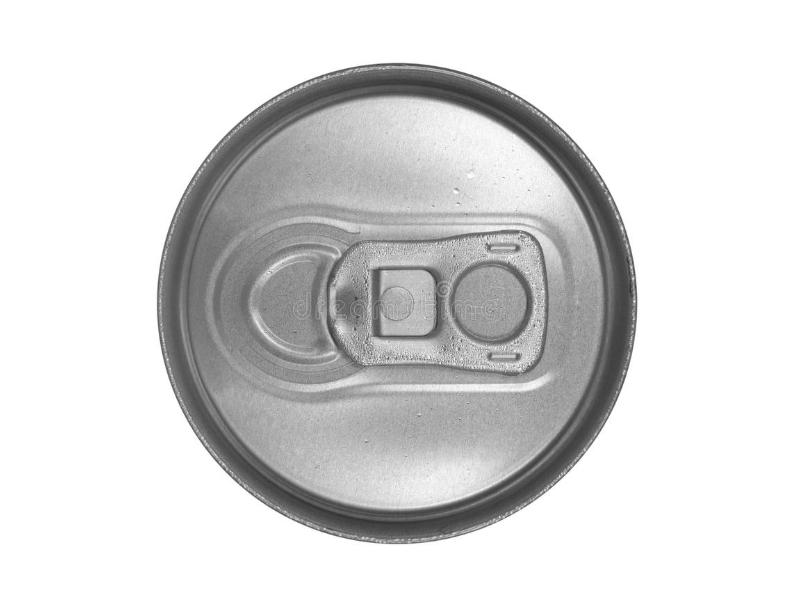can: (147, 56, 649, 545)
